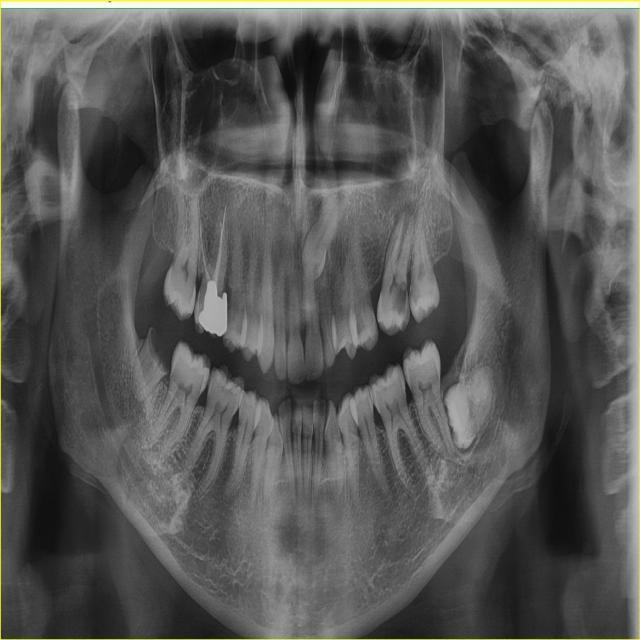Caries: (393, 282, 409, 319), (409, 275, 418, 311), (220, 383, 237, 398), (227, 282, 233, 321), (381, 385, 390, 391), (401, 372, 405, 385), (405, 371, 409, 383)
Filling: (198, 280, 228, 337)
Periapical lesion: (389, 199, 417, 258)
Root Canal Treatment: (211, 209, 226, 281), (201, 218, 211, 281)
Root Piece: (132, 327, 168, 402)
impacted tooth: (301, 174, 339, 279), (451, 378, 496, 453)
